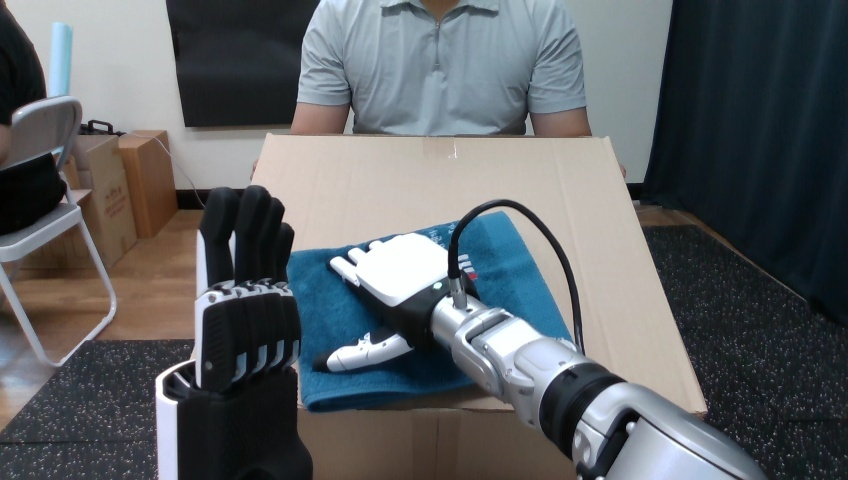left robot hand: (314, 200, 764, 479), (156, 186, 312, 478), (457, 205, 576, 343)
